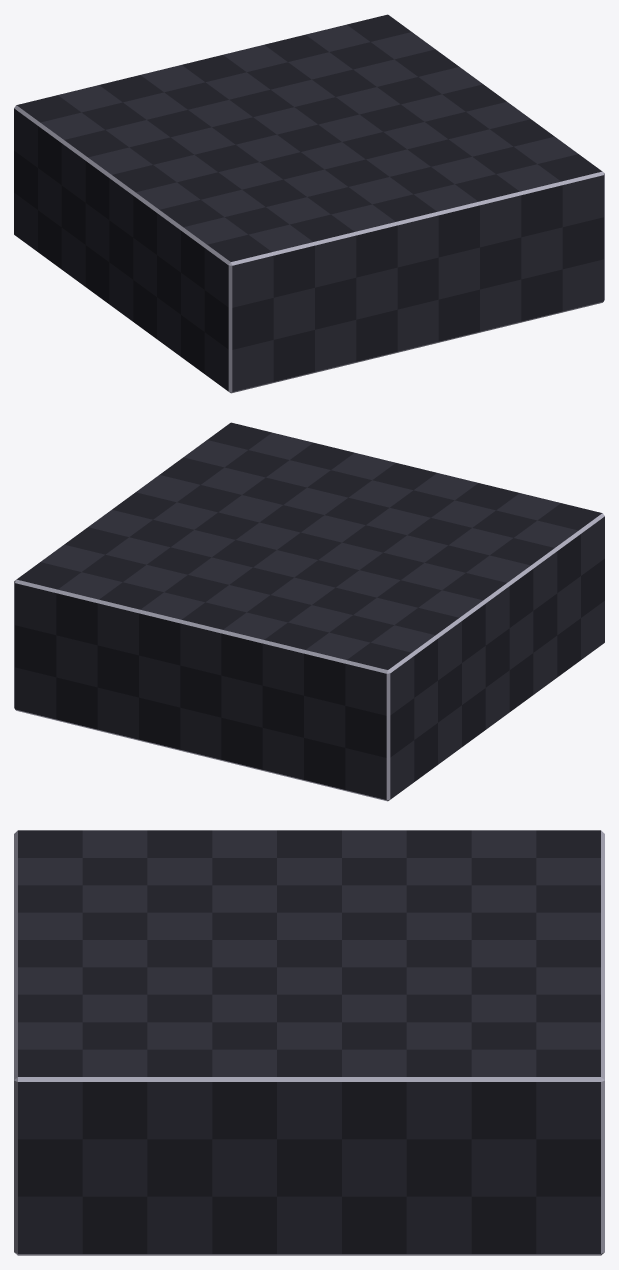
File: PMP-M-Ground-Main-3x3x1-V1.fbx
The picture shows the model from 3 angles, top to bottom: view 1: azimuth 30°, elevation 25°; view 2: azimuth 150°, elevation 25°; view 3: azimuth 270°, elevation 25°; orthographic projection. The views are drawn at different scales.
Parts seen in each view (by area): view 1: MONO_Terrain-A-3x3x1; view 2: MONO_Terrain-A-3x3x1; view 3: MONO_Terrain-A-3x3x1.
Part boxes in pixels (x1,y1,x2,y2): MONO_Terrain-A-3x3x1: [14, 14, 604, 393]; MONO_Terrain-A-3x3x1: [14, 422, 604, 801]; MONO_Terrain-A-3x3x1: [14, 830, 604, 1255].
Size of the model in its own units: 300 by 100 by 300.
